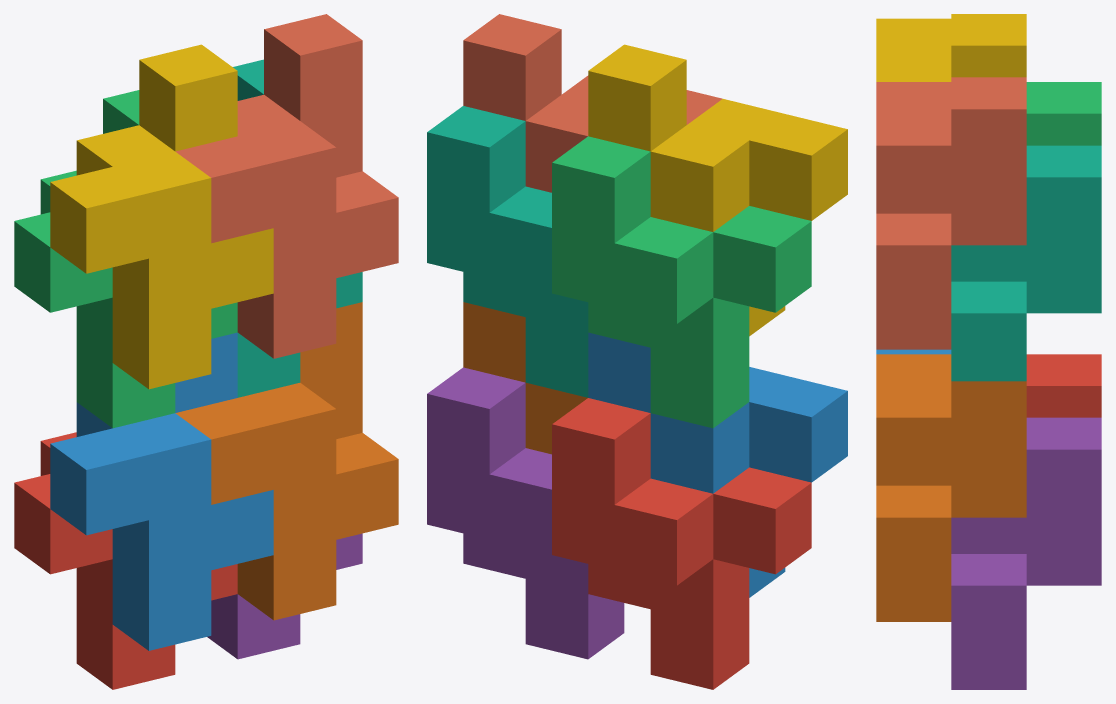
Rendered from tiling.obj.
3 views of the same model, side by side, from view 1: azimuth 30°, elevation 25°; view 2: azimuth 150°, elevation 25°; view 3: azimuth 270°, elevation 25° (orthographic). The views are drawn at different scales.
Visible parts, largest first — view 1: copy_1_domain_4, copy_1_domain_8, copy_1_domain_2, copy_1_domain_6, copy_1_domain_3, copy_1_domain_1, copy_1_domain_5, copy_1_domain_7; view 2: copy_1_domain_3, copy_1_domain_1, copy_1_domain_4, copy_1_domain_5, copy_1_domain_7, copy_1_domain_2, copy_1_domain_8, copy_1_domain_6; view 3: copy_1_domain_8, copy_1_domain_6, copy_1_domain_5, copy_1_domain_7, copy_1_domain_4, copy_1_domain_1, copy_1_domain_3, copy_1_domain_2.
Boxes of the visible parts, x1,y1,x2,y2 form: copy_1_domain_4: (50,44,273,389); copy_1_domain_8: (175,14,398,358); copy_1_domain_2: (50,332,273,650); copy_1_domain_6: (175,302,398,620); copy_1_domain_3: (14,90,237,428); copy_1_domain_1: (14,432,237,689); copy_1_domain_5: (207,533,362,659); copy_1_domain_7: (233,59,362,397); copy_1_domain_3: (552,136,811,428); copy_1_domain_1: (552,398,811,689); copy_1_domain_4: (588,44,847,336); copy_1_domain_5: (427,367,624,659); copy_1_domain_7: (427,106,588,397); copy_1_domain_2: (588,332,847,597); copy_1_domain_8: (463,14,722,192); copy_1_domain_6: (463,302,587,454); copy_1_domain_8: (876,77,1026,349); copy_1_domain_6: (876,354,1026,621); copy_1_domain_5: (951,417,1101,689); copy_1_domain_7: (951,145,1101,381); copy_1_domain_4: (876,14,1026,81); copy_1_domain_1: (1026,354,1101,417); copy_1_domain_3: (1026,82,1101,145); copy_1_domain_2: (876,349,951,354).
Bounding box in the file's own units: 5 × 9 × 3.
